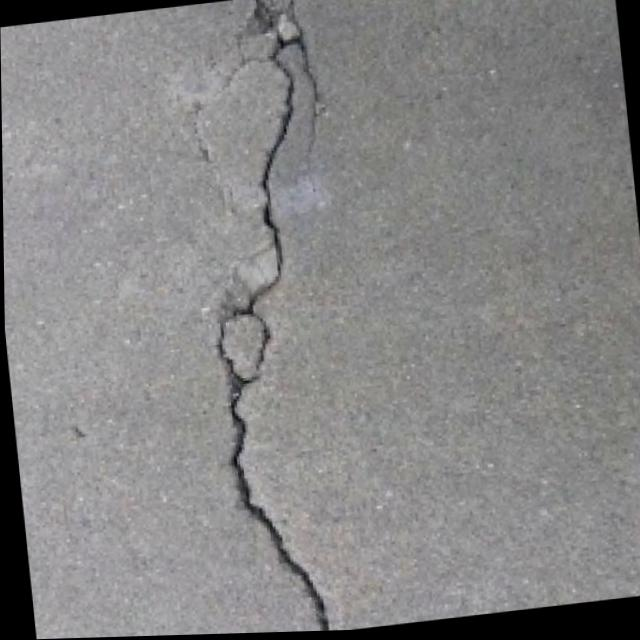Crack: (136, 0, 400, 637)
